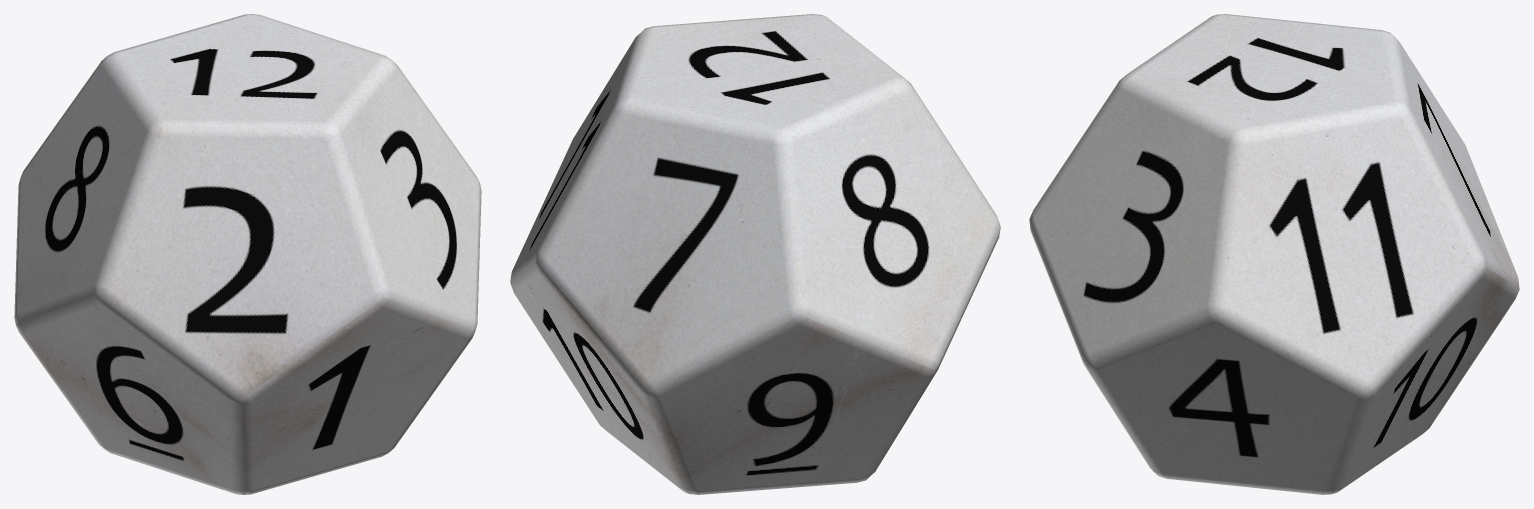
3 renders of one model, left to right at view 1: azimuth 30°, elevation 25°; view 2: azimuth 150°, elevation 25°; view 3: azimuth 270°, elevation 25°, orthographic. The views are drawn at different scales.
Parts seen in each view (by area): view 1: D12_Geo; view 2: D12_Geo; view 3: D12_Geo.
Part boxes in pixels (left/top/right/bottom): D12_Geo: left=14, top=14, right=481, bottom=494; D12_Geo: left=510, top=14, right=1000, bottom=494; D12_Geo: left=1029, top=14, right=1519, bottom=494.
Bounding box in the file's own units: 1.59 × 1.35 × 1.63.
1 material, 1 textured.
